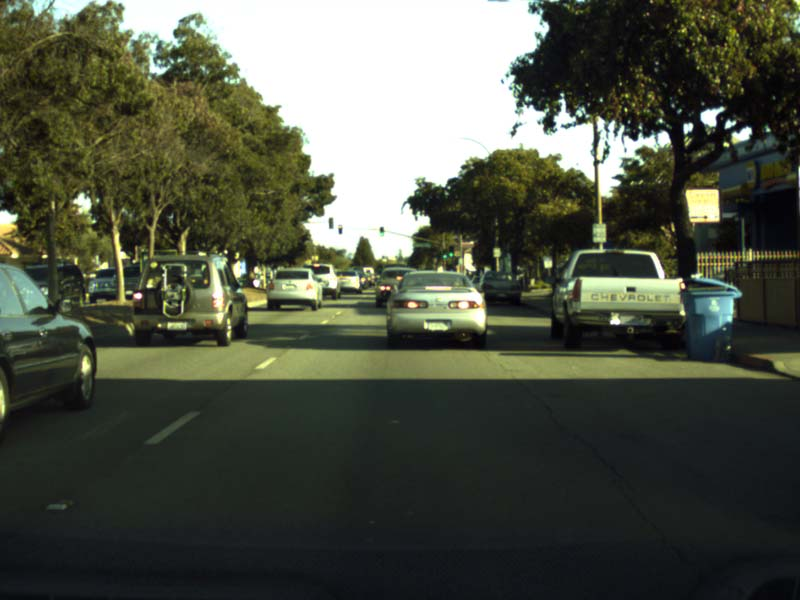Green: (448, 245, 453, 258), (379, 226, 383, 235)
Red: (337, 224, 342, 234)
